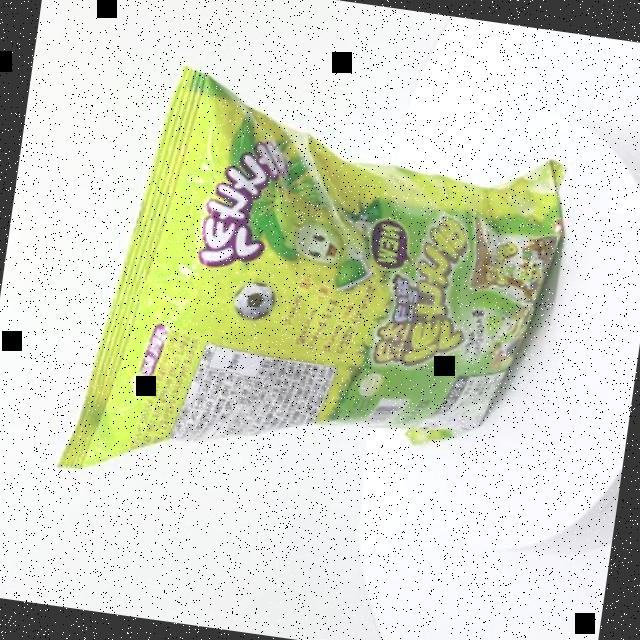snack_bag: (51, 47, 597, 552)
